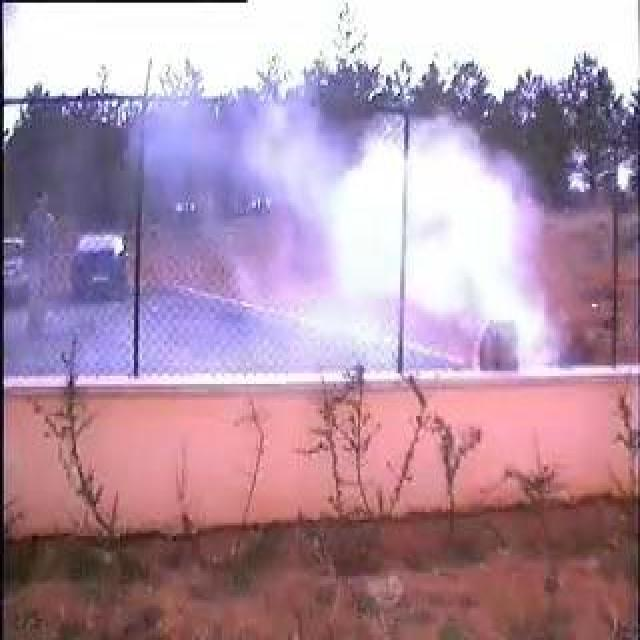Smoke: (144, 111, 564, 364)
